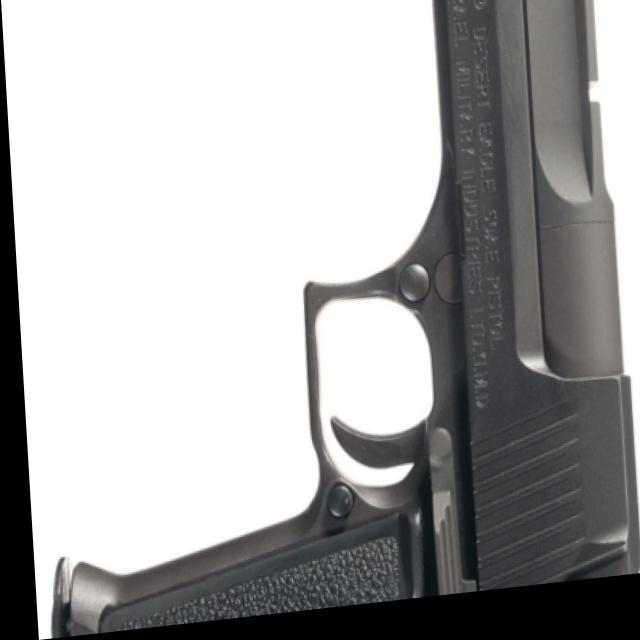handgun: (7, 0, 640, 639)
